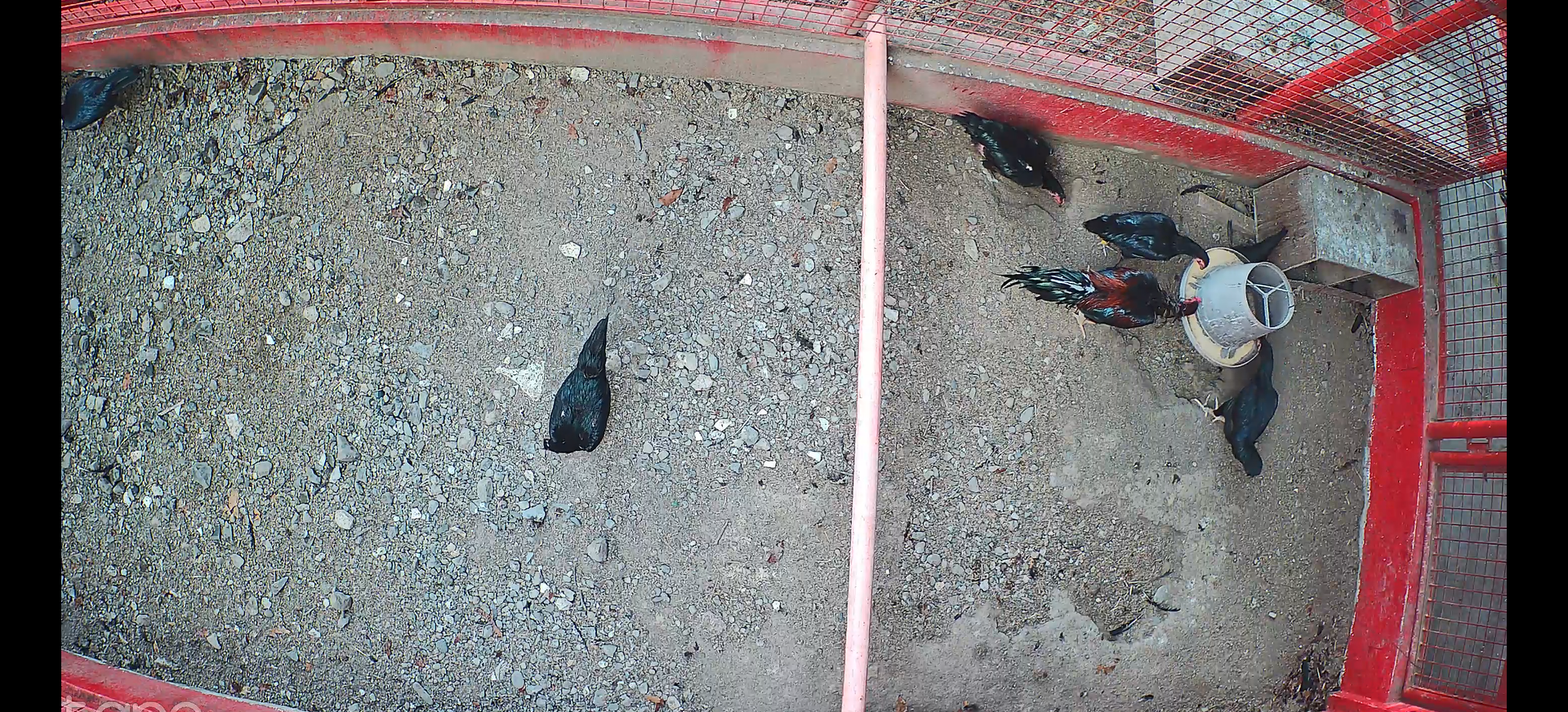Chicken: (1193, 332, 1278, 481), (950, 111, 1067, 209), (542, 312, 615, 459), (1078, 208, 1209, 271), (60, 64, 139, 143), (1232, 225, 1288, 263)
Feeder: (1180, 245, 1295, 368)
Rooster: (991, 261, 1201, 337)
